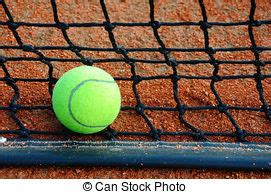tennis_ball: (50, 64, 122, 135)
